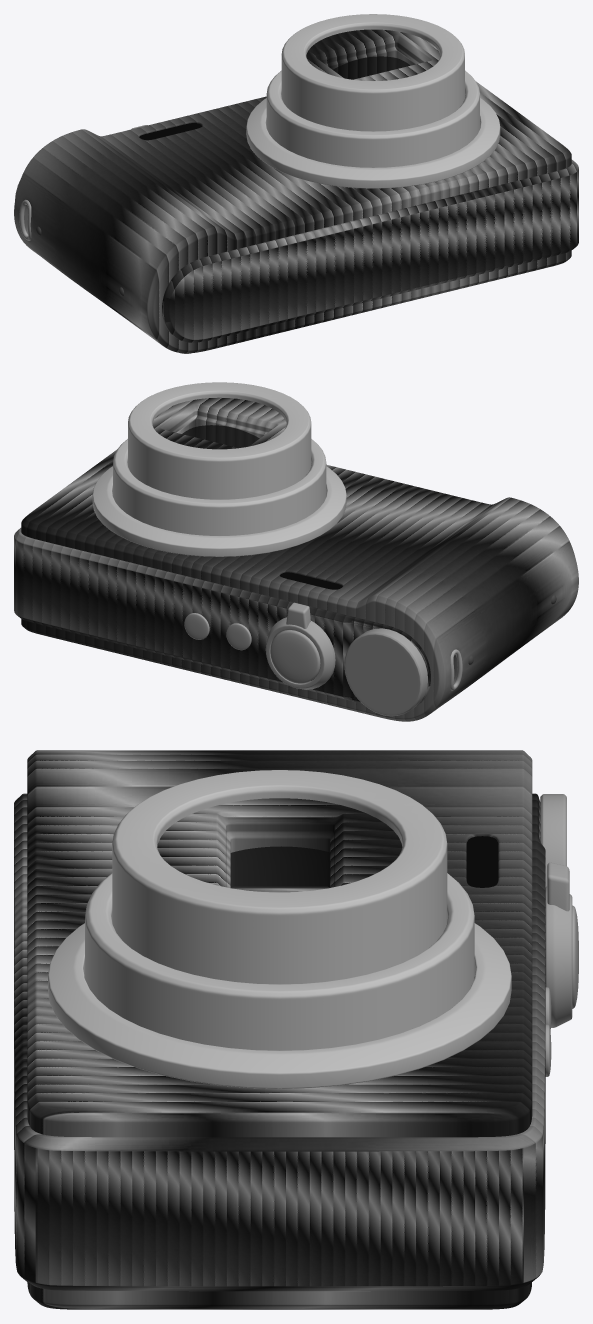
Rendered from 摄影店.gltf.
The picture shows the model from 3 angles, top to bottom: view 1: azimuth 30°, elevation 25°; view 2: azimuth 150°, elevation 25°; view 3: azimuth 270°, elevation 25°; orthographic projection. The views are drawn at different scales.
Visible parts, largest first — view 1: node_cgaxis_electronics_35_01_-59730, node_cgaxis_electronics_35_08_-59742, node_cgaxis_electronics_35_09_-59744, node_cgaxis_electronics_35_07_-59740; view 2: node_cgaxis_electronics_35_01_-59730, node_cgaxis_electronics_35_08_-59742, node_cgaxis_electronics_35_05_-59736, node_cgaxis_electronics_35_02_-59732, node_cgaxis_electronics_35_09_-59744, node_cgaxis_electronics_35_07_-59740; view 3: node_cgaxis_electronics_35_01_-59730, node_cgaxis_electronics_35_08_-59742, node_cgaxis_electronics_35_05_-59736, node_cgaxis_electronics_35_09_-59744, node_cgaxis_electronics_35_07_-59740, node_cgaxis_electronics_35_02_-59732.
Part boxes in pixels (<box>): node_cgaxis_electronics_35_01_-59730: <box>14,29,578,353</box>; node_cgaxis_electronics_35_08_-59742: <box>246,14,500,188</box>; node_cgaxis_electronics_35_09_-59744: <box>333,56,410,79</box>; node_cgaxis_electronics_35_07_-59740: <box>139,123,202,140</box>; node_cgaxis_electronics_35_01_-59730: <box>14,397,578,721</box>; node_cgaxis_electronics_35_08_-59742: <box>92,382,346,556</box>; node_cgaxis_electronics_35_05_-59736: <box>265,602,462,716</box>; node_cgaxis_electronics_35_02_-59732: <box>184,613,320,683</box>; node_cgaxis_electronics_35_09_-59744: <box>182,425,259,447</box>; node_cgaxis_electronics_35_07_-59740: <box>279,572,342,589</box>; node_cgaxis_electronics_35_01_-59730: <box>14,750,545,1309</box>; node_cgaxis_electronics_35_08_-59742: <box>48,770,511,1088</box>; node_cgaxis_electronics_35_05_-59736: <box>540,794,572,1027</box>; node_cgaxis_electronics_35_09_-59744: <box>230,846,330,888</box>; node_cgaxis_electronics_35_07_-59740: <box>466,836,498,887</box>; node_cgaxis_electronics_35_02_-59732: <box>545,905,578,1076</box>.
Size of the model in its own units: 0.1041 by 0.0449 by 0.0638.
